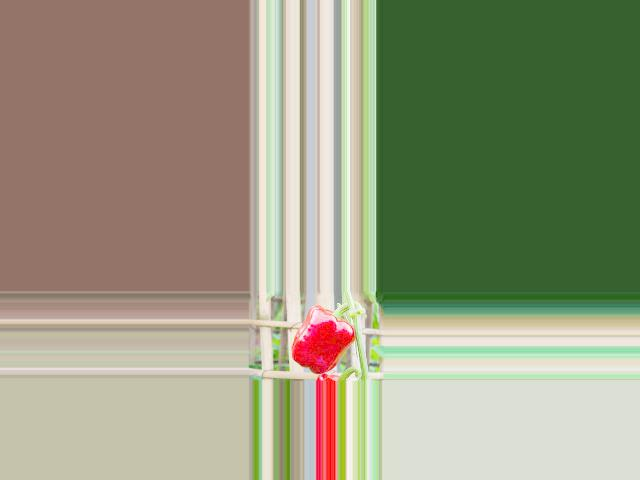bell_pepper: (286, 305, 360, 373)
